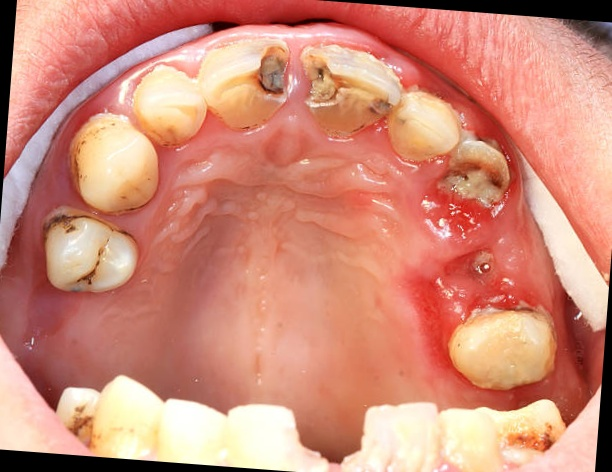Gingivitis: (415, 266, 458, 362), (420, 191, 496, 243)
